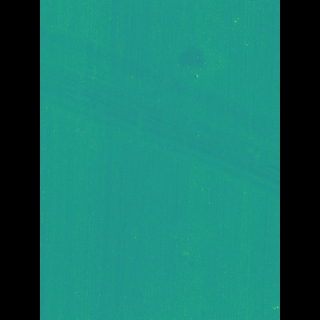Loch: (70, 23, 249, 198), (170, 36, 202, 80)
